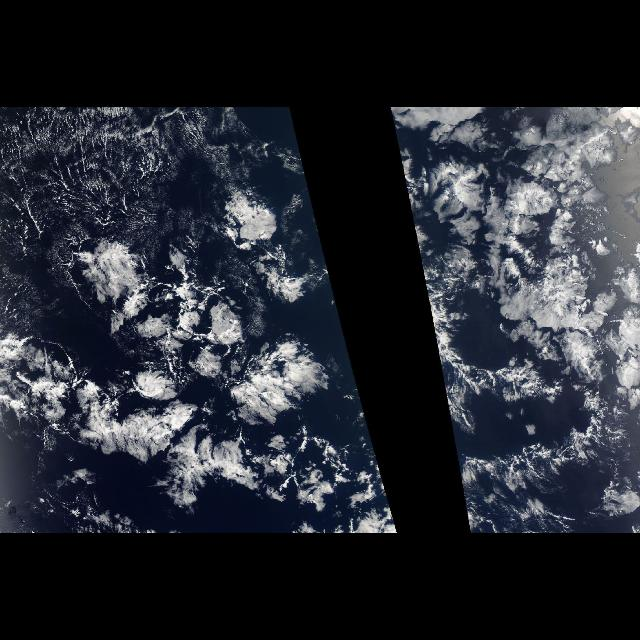Fish: (434, 346, 602, 502)
Flower: (11, 208, 370, 502), (398, 113, 612, 403)
Sugar: (3, 110, 315, 214)
